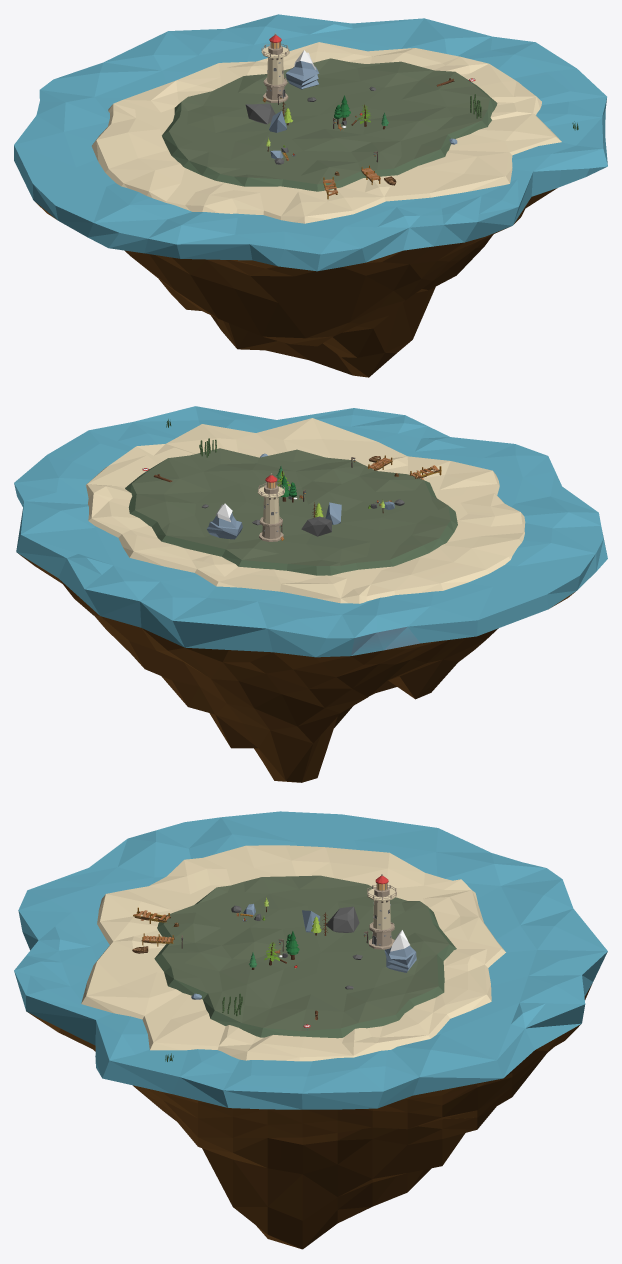
The model's file is island.glb.
3 views of the same model, one above another, from view 1: azimuth 30°, elevation 25°; view 2: azimuth 150°, elevation 25°; view 3: azimuth 270°, elevation 25° (orthographic). The views are drawn at different scales.
Visible parts, largest first — view 1: M_Floating_Base, M_Light House, M_Rock 1; view 2: M_Floating_Base, M_Light House, M_Rock 1; view 3: M_Floating_Base, M_Light House, M_Rock 1, M_Rock 11.
Part boxes in pixels (x1,y1,x2,y2): M_Floating_Base: [14, 14, 607, 377]; M_Light House: [261, 33, 289, 102]; M_Rock 1: [286, 50, 319, 89]; M_Floating_Base: [14, 406, 607, 782]; M_Light House: [257, 473, 284, 541]; M_Rock 1: [207, 503, 242, 539]; M_Floating_Base: [14, 811, 607, 1249]; M_Light House: [367, 874, 396, 949]; M_Rock 1: [384, 930, 416, 972]; M_Rock 11: [326, 906, 359, 932].
Size of the model in its own units: 23.55 by 13.77 by 20.95.
3 materials, 3 textured.
